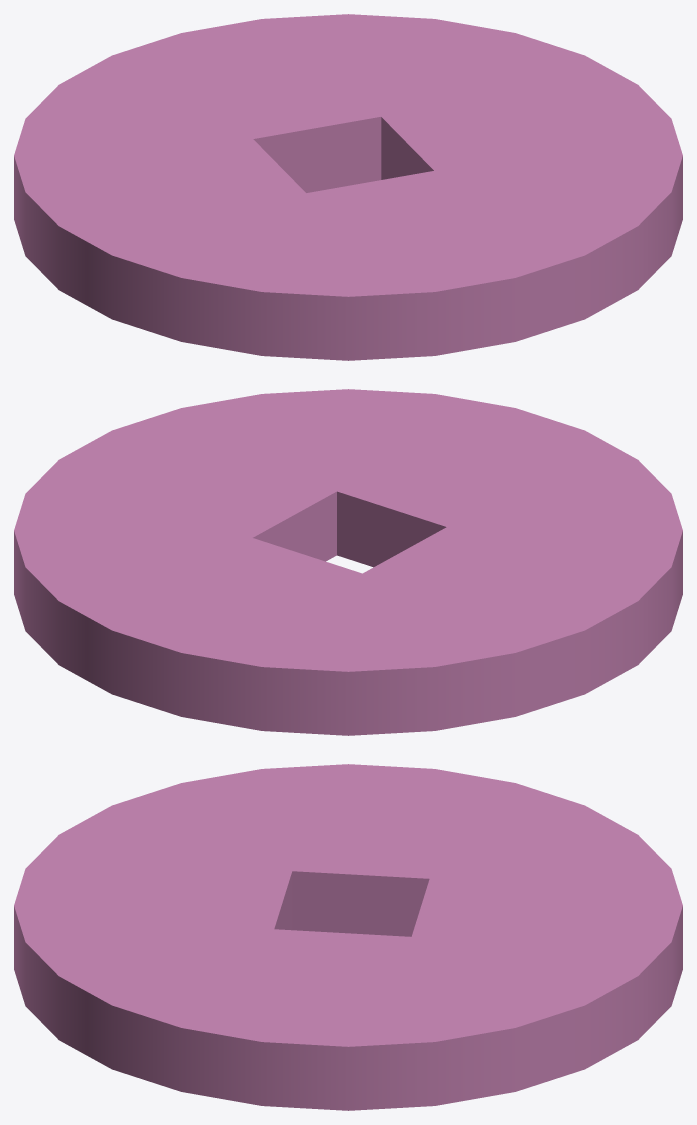
Rendered from ClearCoin3.obj.
3 renders of one model, top to bottom at view 1: azimuth 30°, elevation 25°; view 2: azimuth 150°, elevation 25°; view 3: azimuth 270°, elevation 25°, orthographic.
Parts seen in each view (by area): view 1: coin; view 2: coin; view 3: coin.
Boxes of the visible parts, bbox=[...] form: coin: bbox=[14, 14, 682, 360]; coin: bbox=[14, 389, 682, 735]; coin: bbox=[14, 764, 682, 1110].
Bounding box in the file's own units: 8.78 × 0.9269 × 8.78.
